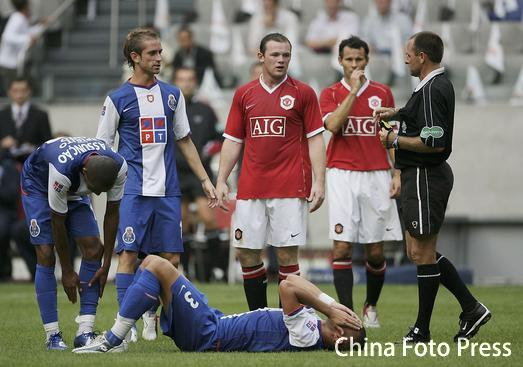10+: (1, 1, 493, 352)
down: (76, 248, 369, 351)
